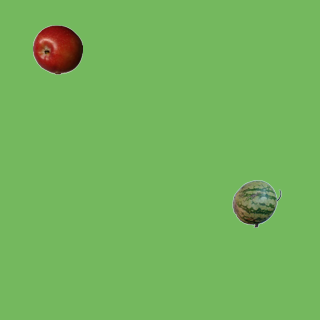Apple Braeburn: (32, 24, 82, 74)
Watermelon: (231, 178, 281, 228)
